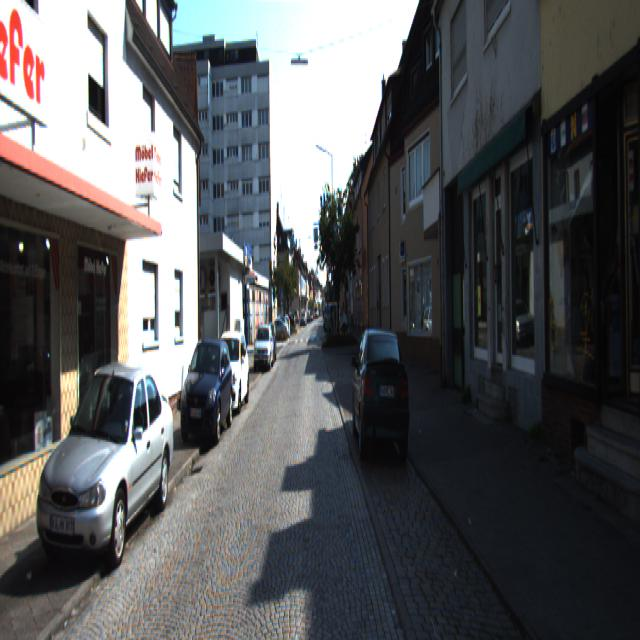Car: (32, 361, 175, 583), (350, 324, 412, 471), (178, 334, 234, 452), (208, 327, 251, 415), (251, 323, 274, 372)
